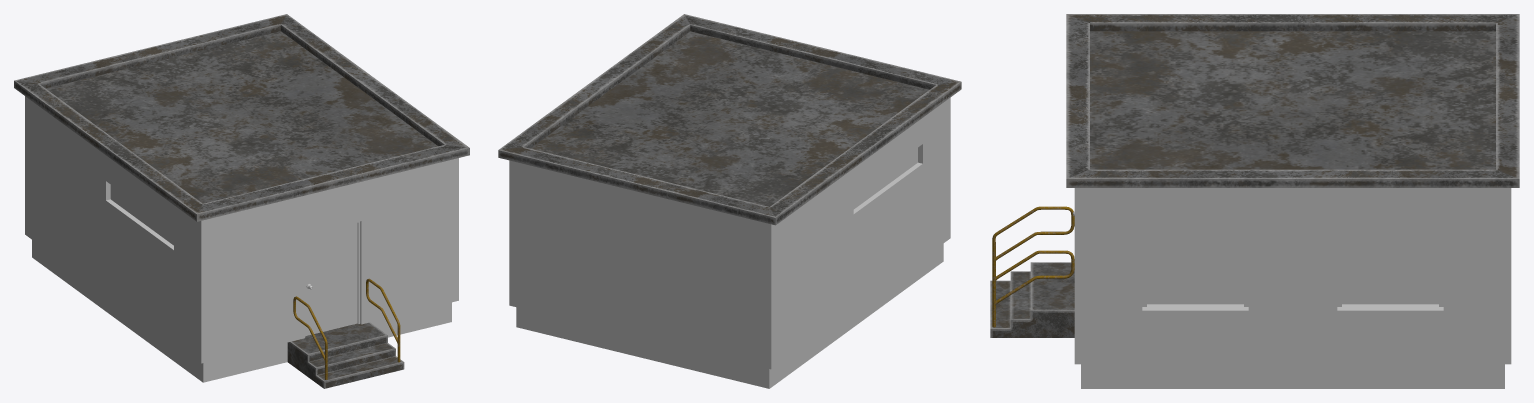
The model's file is Building Exterior.fbx.
The picture shows the model from 3 angles, left to right: view 1: azimuth 30°, elevation 25°; view 2: azimuth 150°, elevation 25°; view 3: azimuth 270°, elevation 25°; orthographic projection. The views are drawn at different scales.
Visible parts, largest first — view 1: Building_Exterior; view 2: Building_Exterior; view 3: Building_Exterior.
Part boxes in pixels (x1,y1,x2,y2): Building_Exterior: [14, 14, 469, 388]; Building_Exterior: [498, 14, 961, 388]; Building_Exterior: [990, 14, 1519, 388].
Size of the model in its own units: 580 by 357 by 787.
